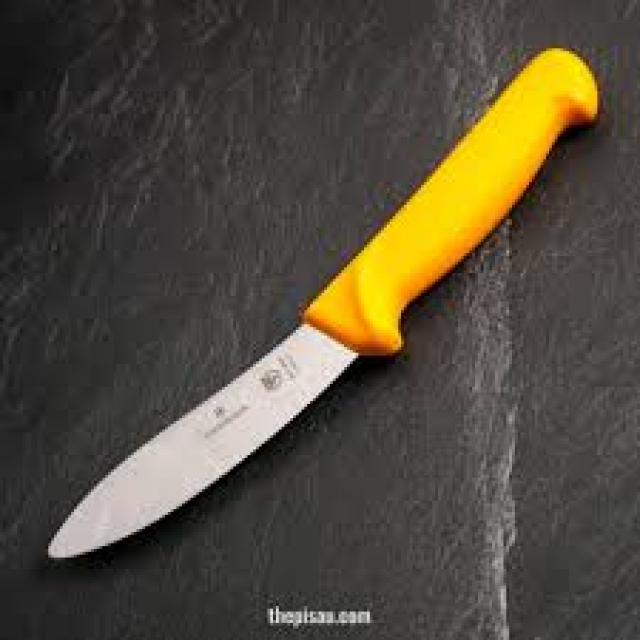Knife: (43, 46, 600, 563)
